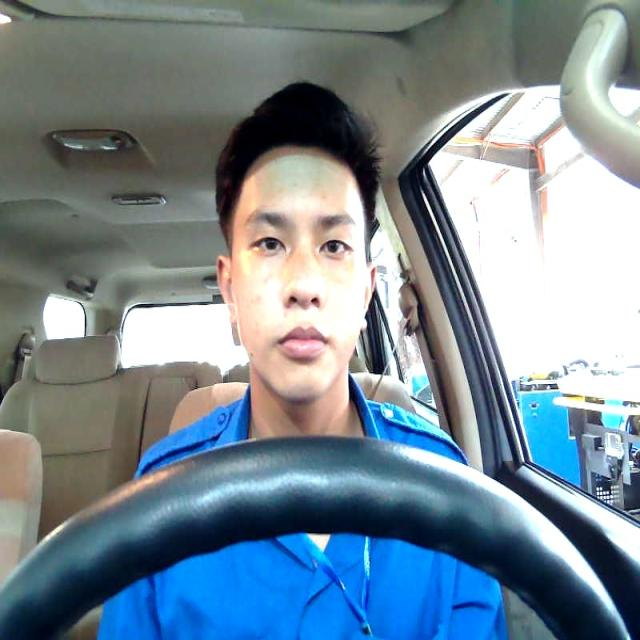focused: (217, 146, 377, 403)
